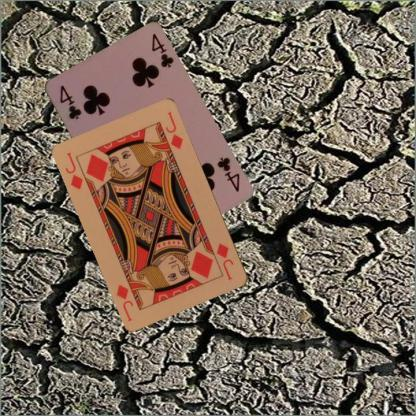4c: (214, 154, 241, 193), (56, 82, 82, 121)
Jd: (63, 150, 90, 191), (214, 240, 235, 282)
